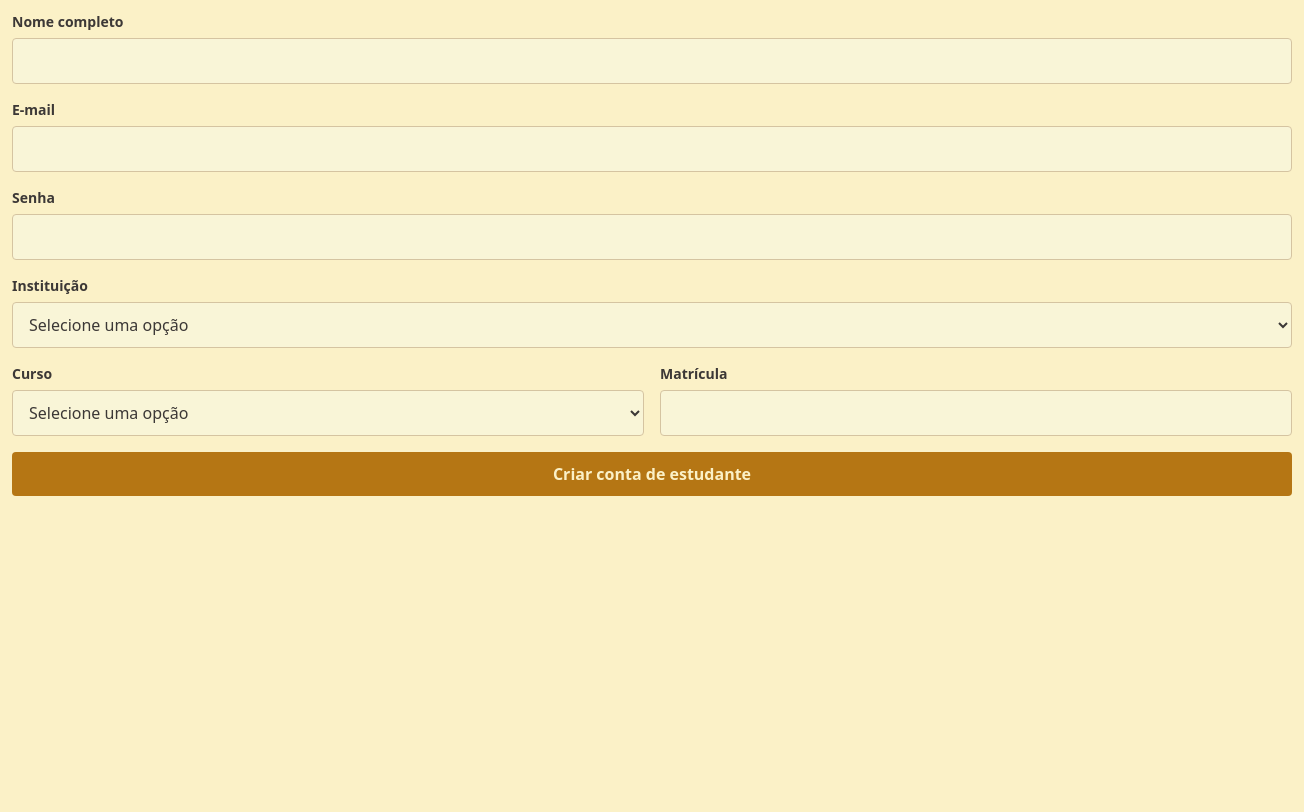
Test: CadastroEstudante › exibe falha da API
Type "Ana Estudante" into the field labelled "Nome completo" at [652, 61], box left=12, top=38, right=1292, bottom=84
Type "ana@ufmg.br" into the field labelled "E-mail" at [652, 149], box left=12, top=126, right=1292, bottom=172
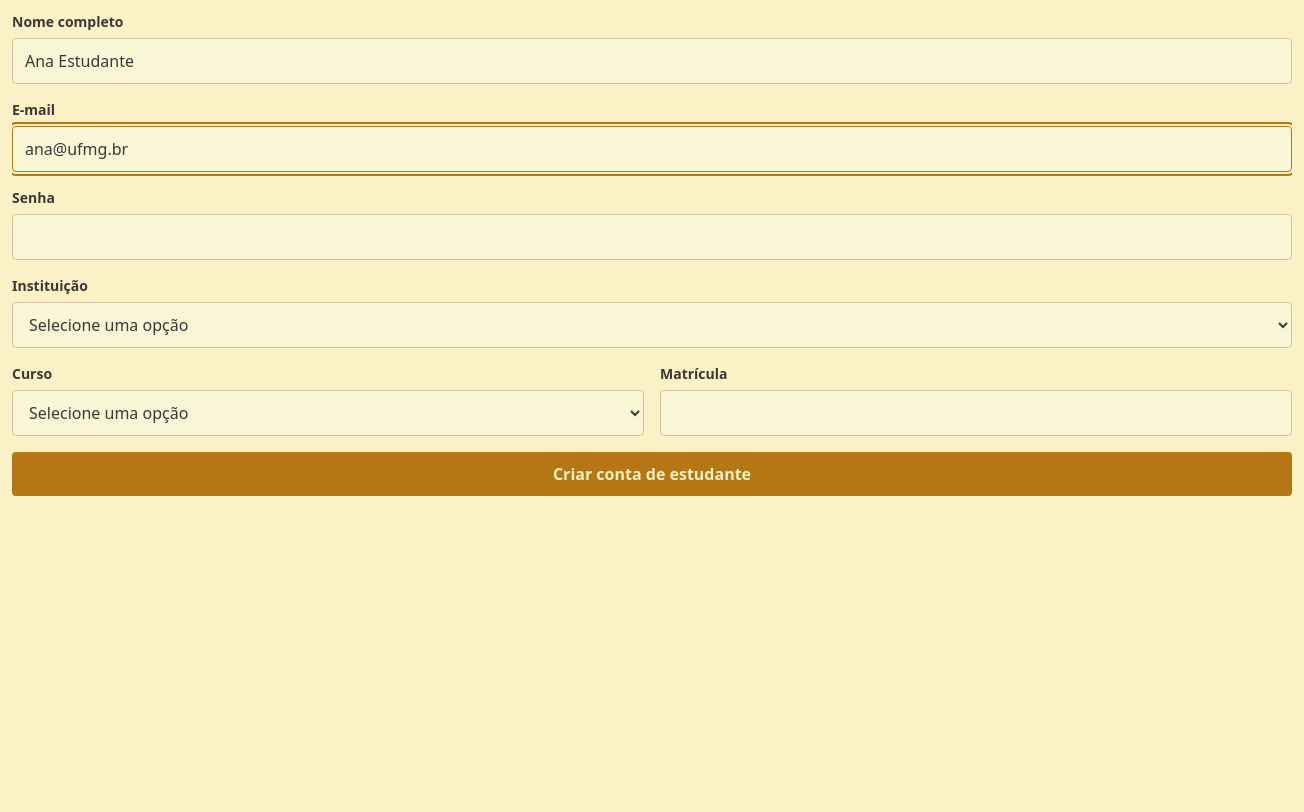
Type "segredo" into the password field labelled "Senha" at [652, 237], box left=12, top=214, right=1292, bottom=260
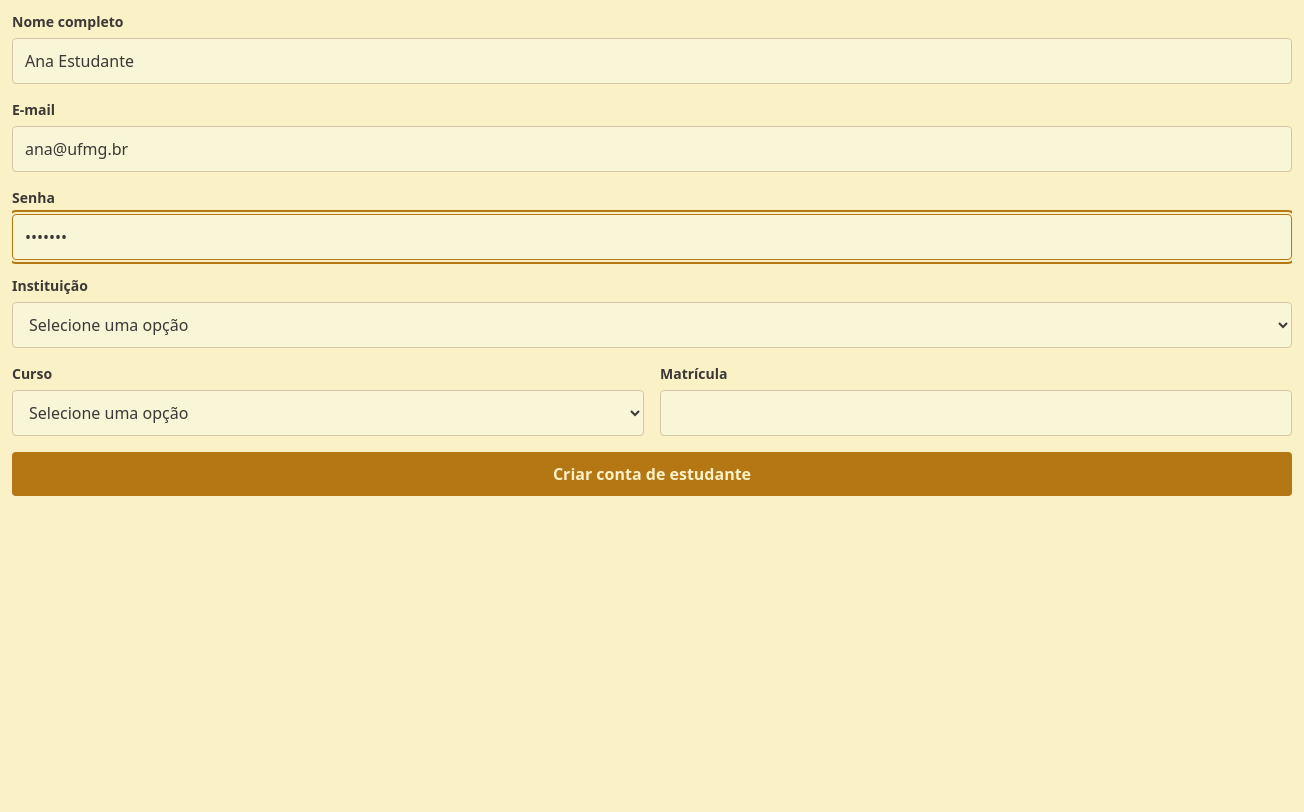
Select "Universidade Federal de Minas Gerais" in the dropdown labelled "Instituição" at [652, 325], box left=12, top=302, right=1292, bottom=348
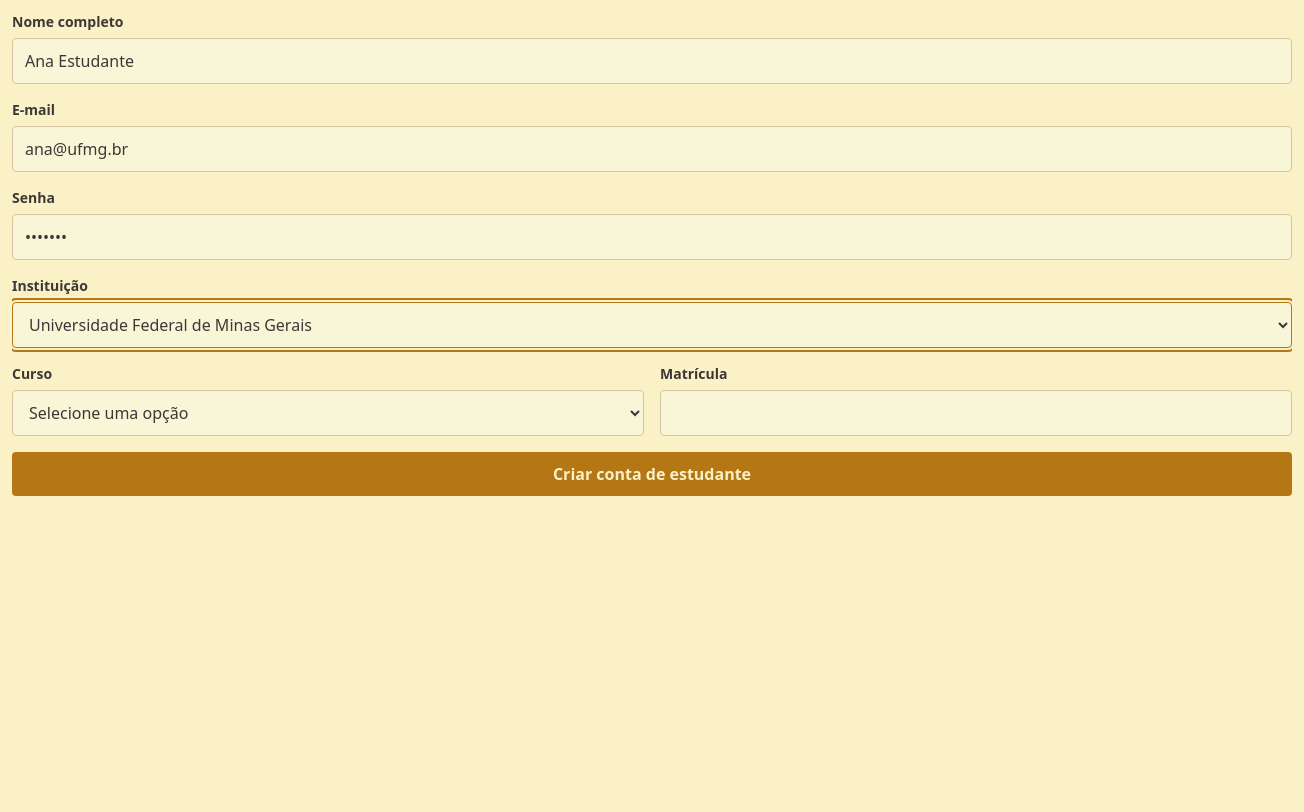
Select "Ciência da Computação (Bacharelado)" in the dropdown labelled "Curso" at [328, 413], box left=12, top=390, right=644, bottom=436
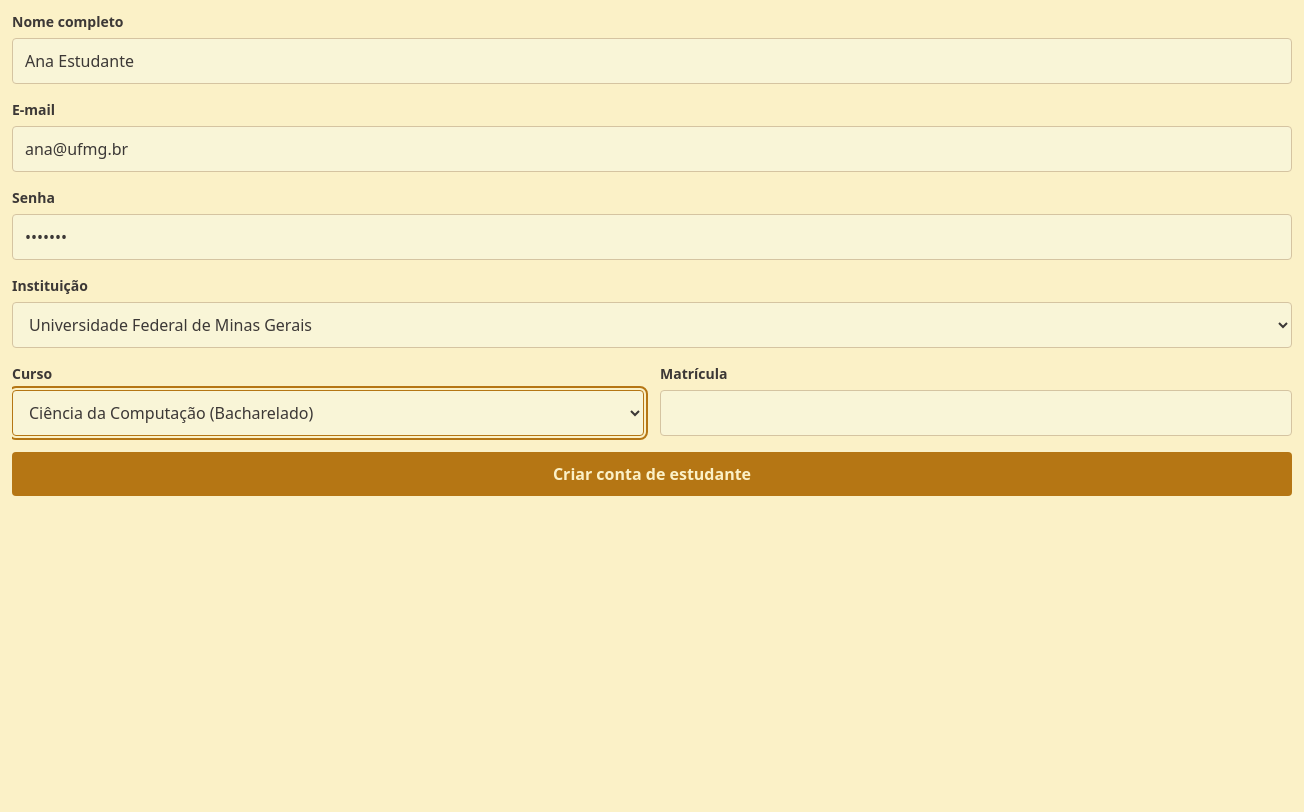
Type " 1234 " into the field labelled "Matrícula" at [976, 413], box left=660, top=390, right=1292, bottom=436
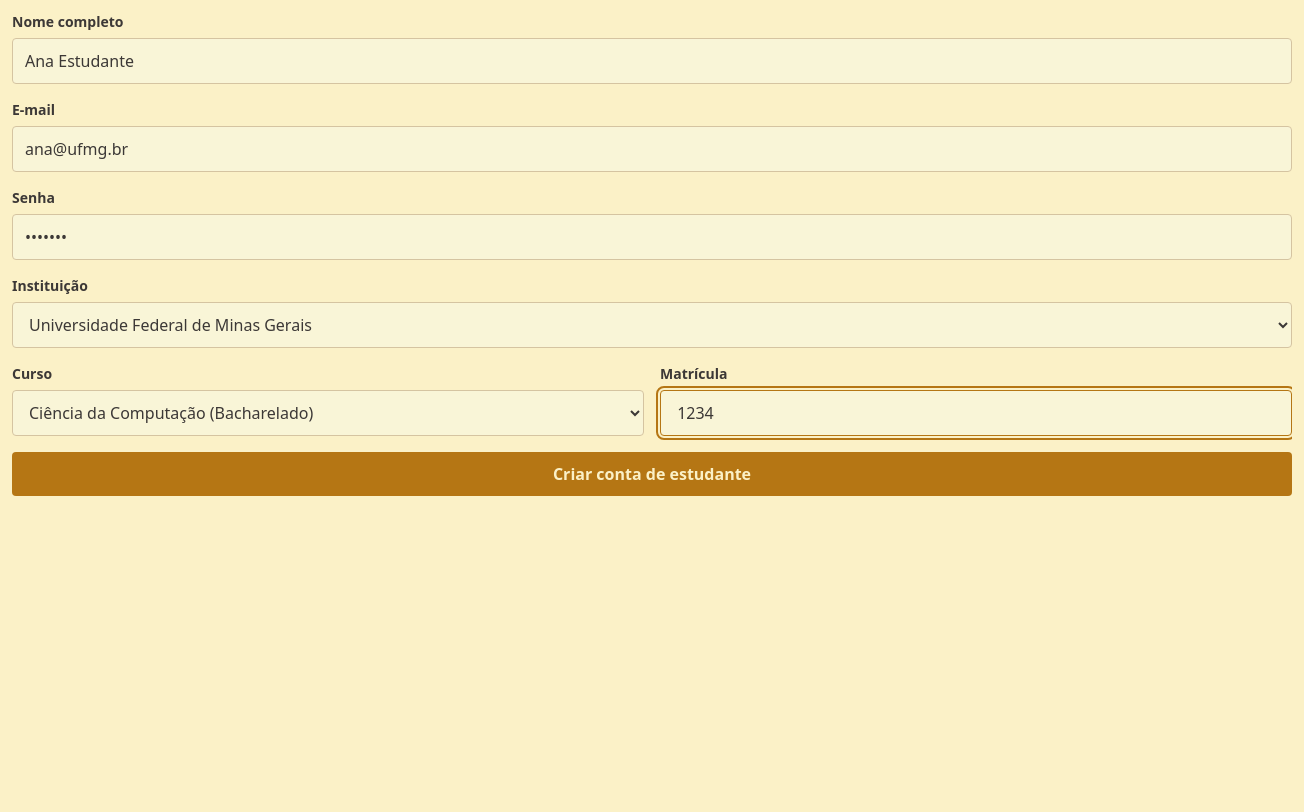
Click the button "Criar conta de estudante" at [652, 474], box left=12, top=452, right=1292, bottom=496
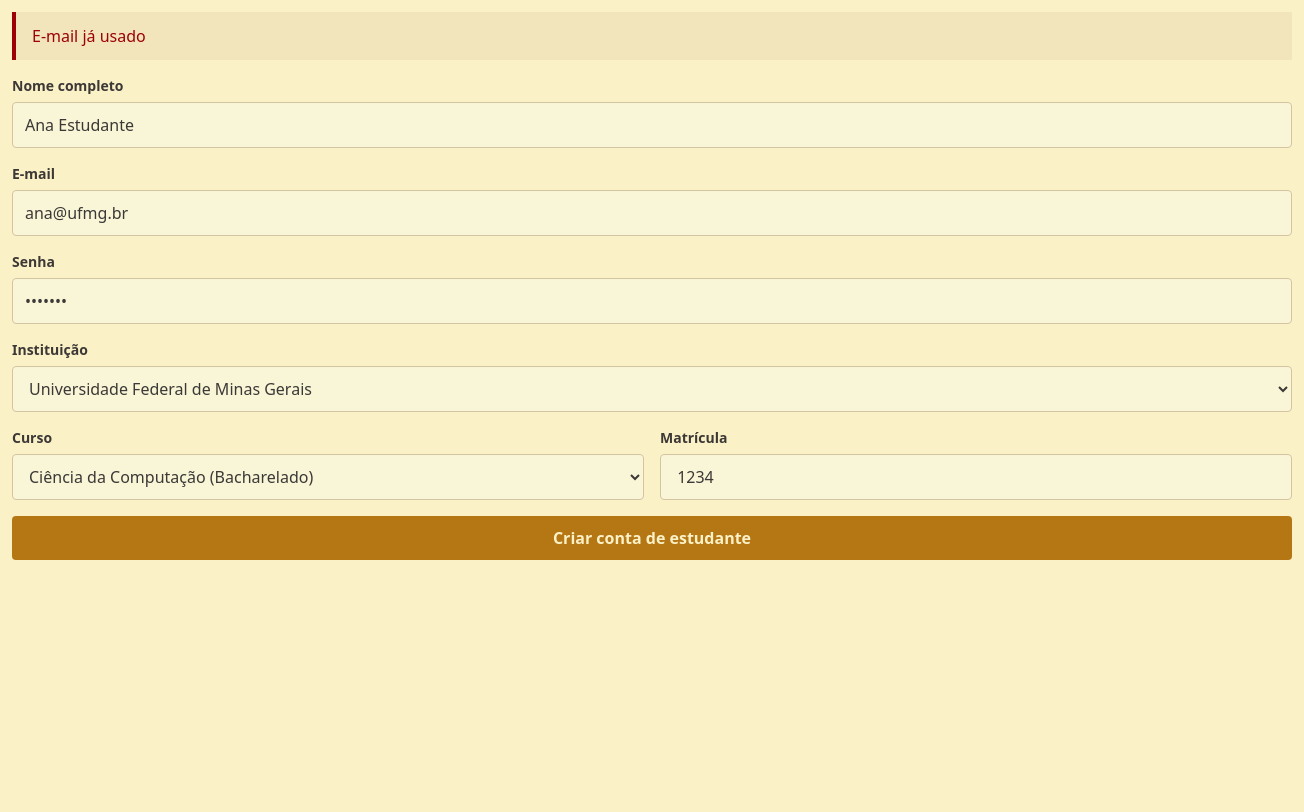
Expected: the message reads "E-mail já usado", left=32, top=25, right=146, bottom=47
